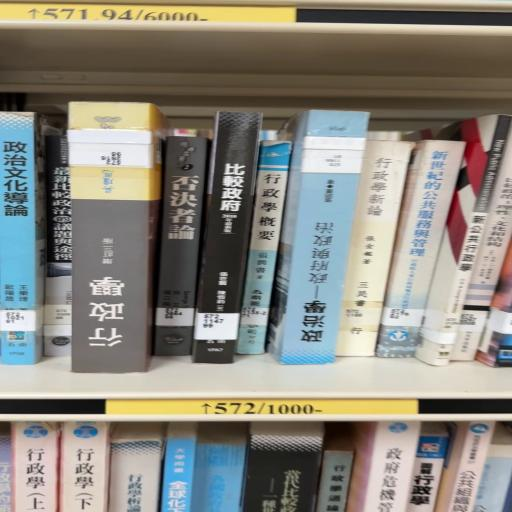reverse: (67, 102, 170, 373), (267, 110, 369, 365)
